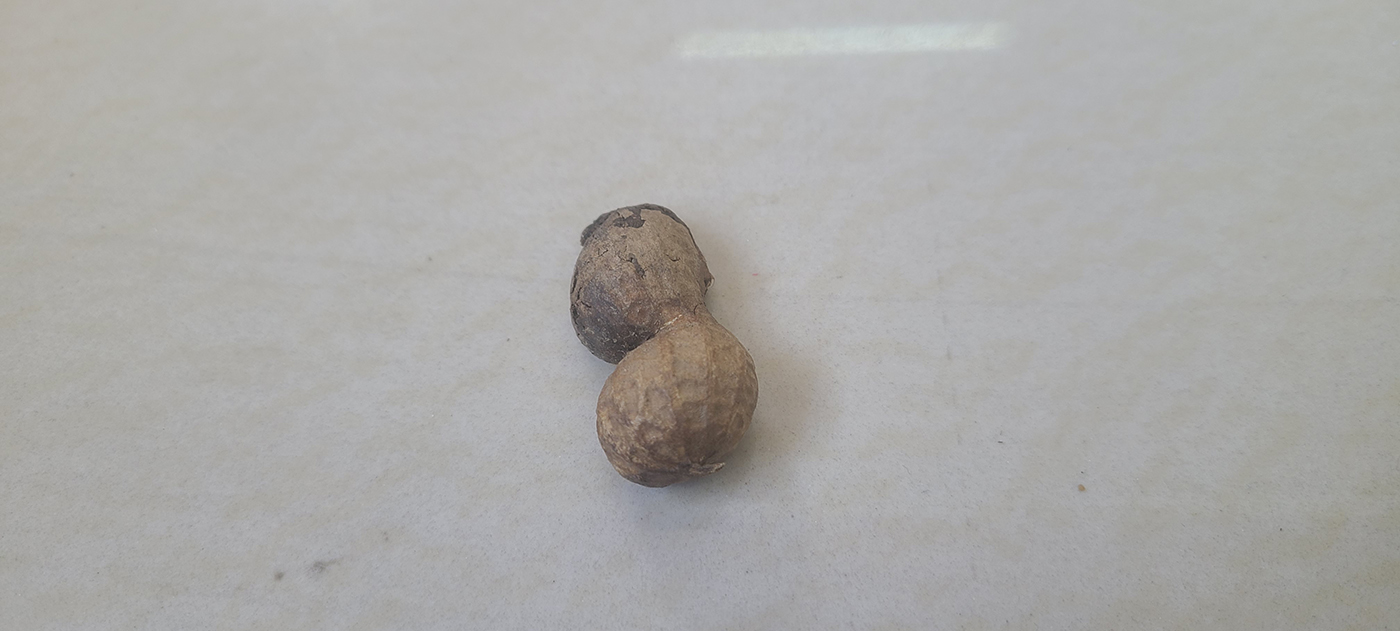l: (569, 204, 760, 486)
